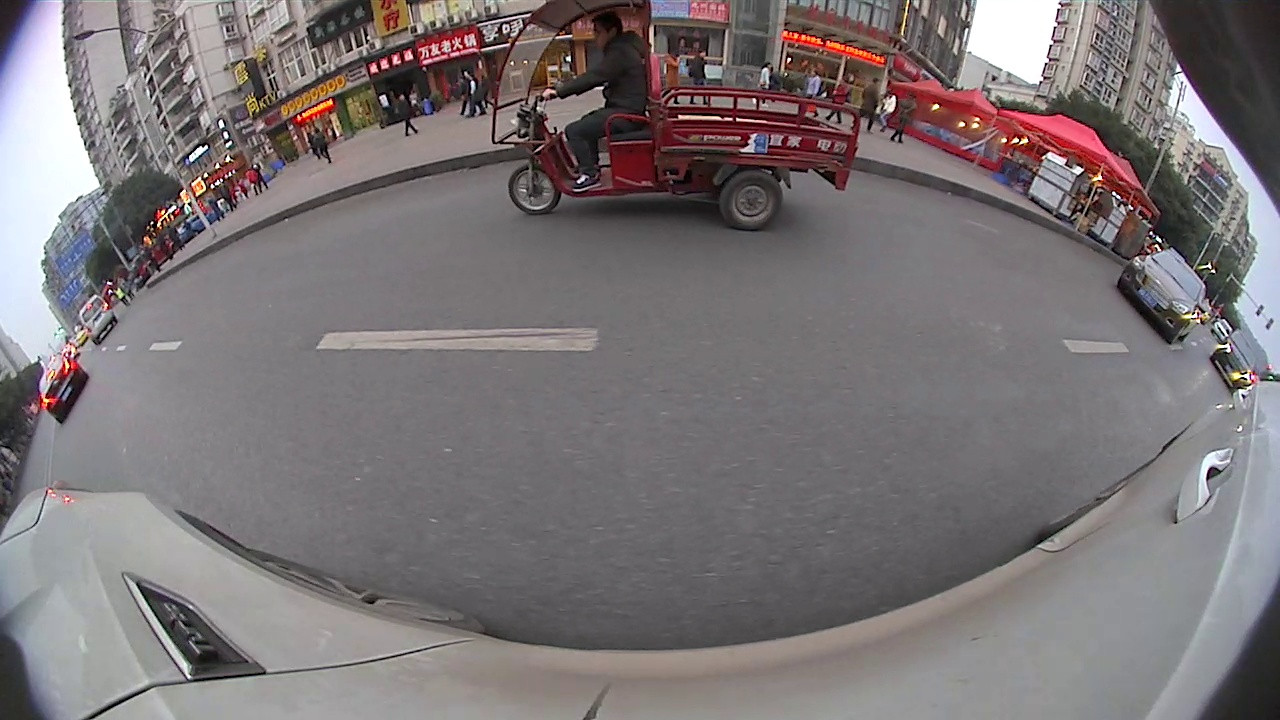car: (485, 0, 861, 231), (1113, 243, 1211, 344), (31, 352, 91, 427), (1209, 325, 1264, 394), (72, 292, 121, 345)
front: (505, 158, 563, 220)
rear: (715, 168, 780, 233)
